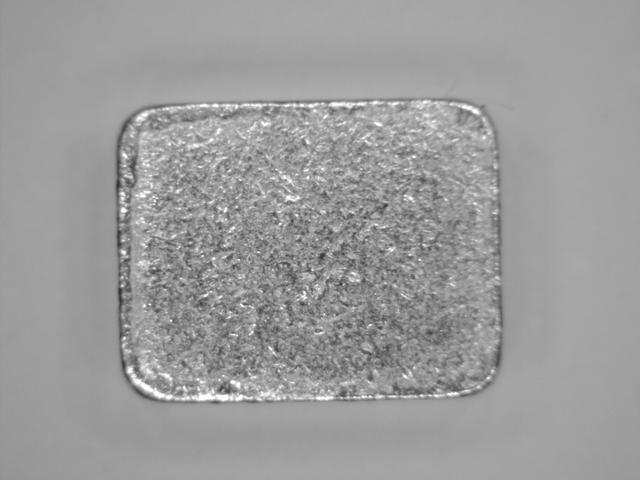ok: (113, 94, 507, 405)
